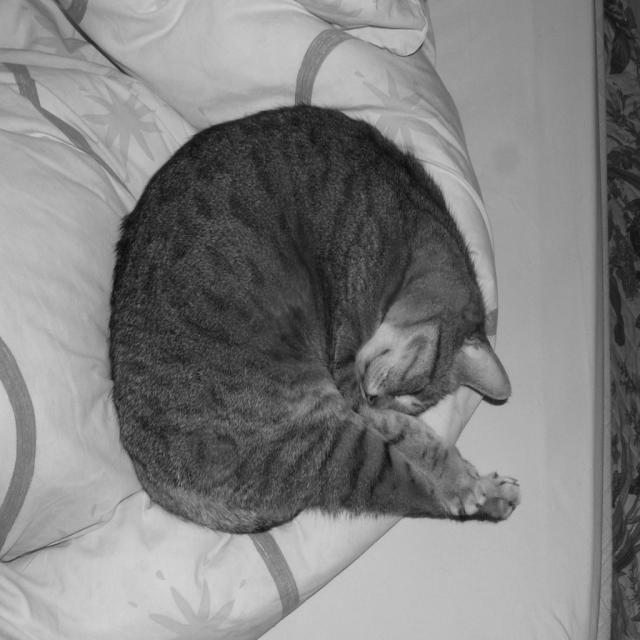Cat: (96, 106, 514, 538)
